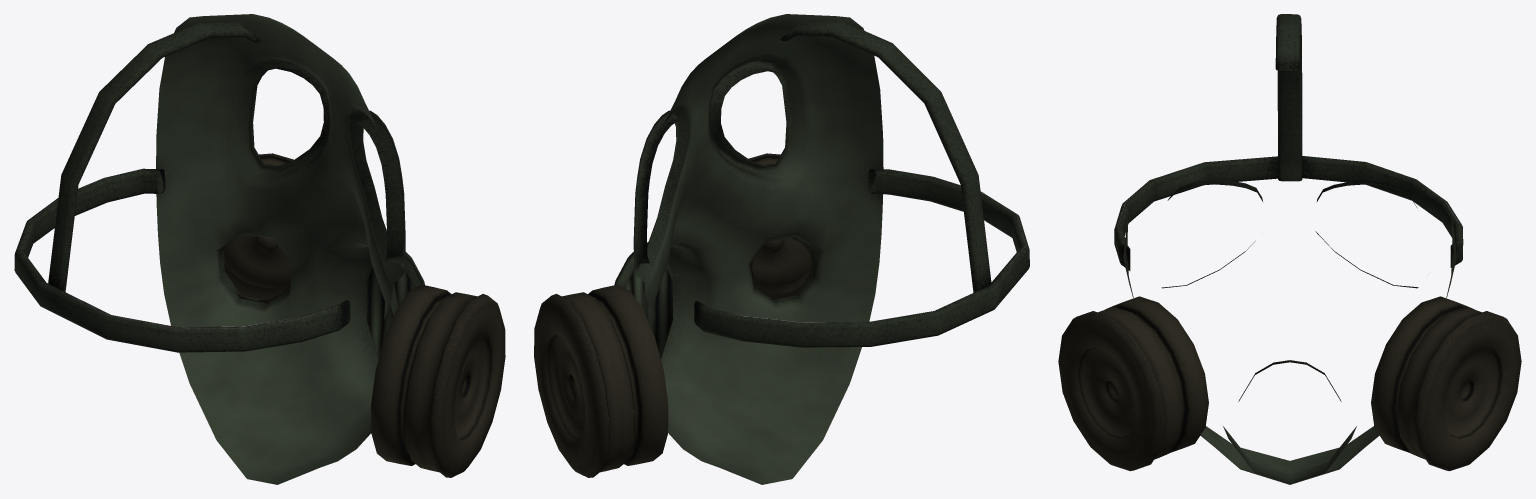
The model's file is Gas_Mask.glb.
The picture shows the model from 3 angles, left to right: view 1: azimuth 30°, elevation 25°; view 2: azimuth 150°, elevation 25°; view 3: azimuth 270°, elevation 25°; orthographic projection. The views are drawn at different scales.
Parts seen in each view (by area): view 1: BézierCurve.005; view 2: BézierCurve.005; view 3: BézierCurve.005.
Part boxes in pixels (x1,y1,x2,y2): BézierCurve.005: (14,14,505,484); BézierCurve.005: (534,14,1029,484); BézierCurve.005: (1058,14,1521,484).
Bounding box in the file's own units: 1.97 × 2.24 × 2.27.
Materials: 1 (1 with a texture image).
